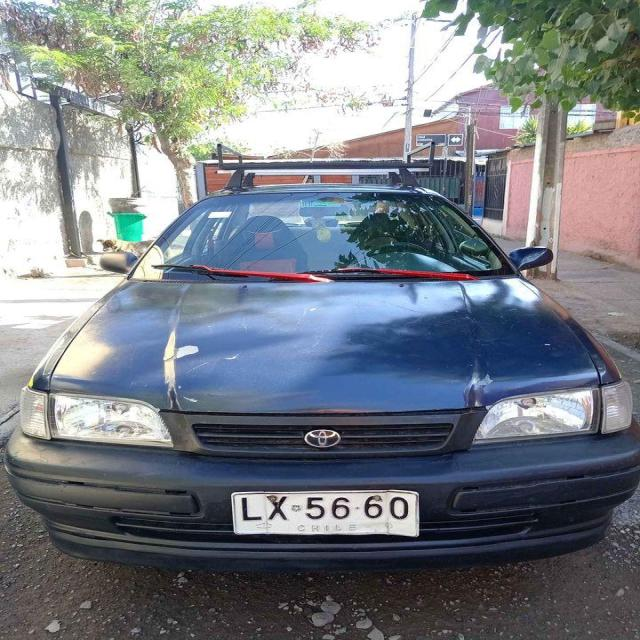patente: (230, 489, 420, 537)
